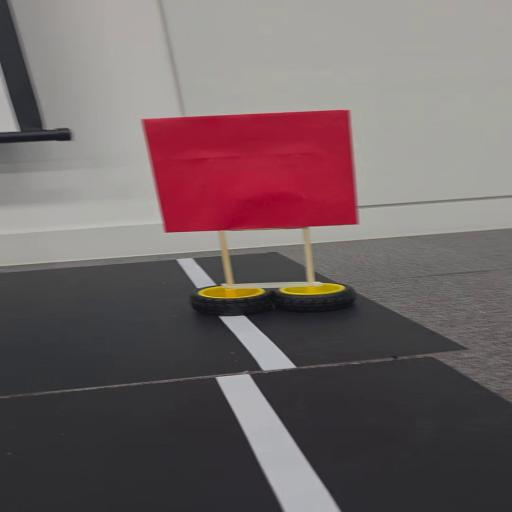Sign_A: (140, 103, 370, 330)
